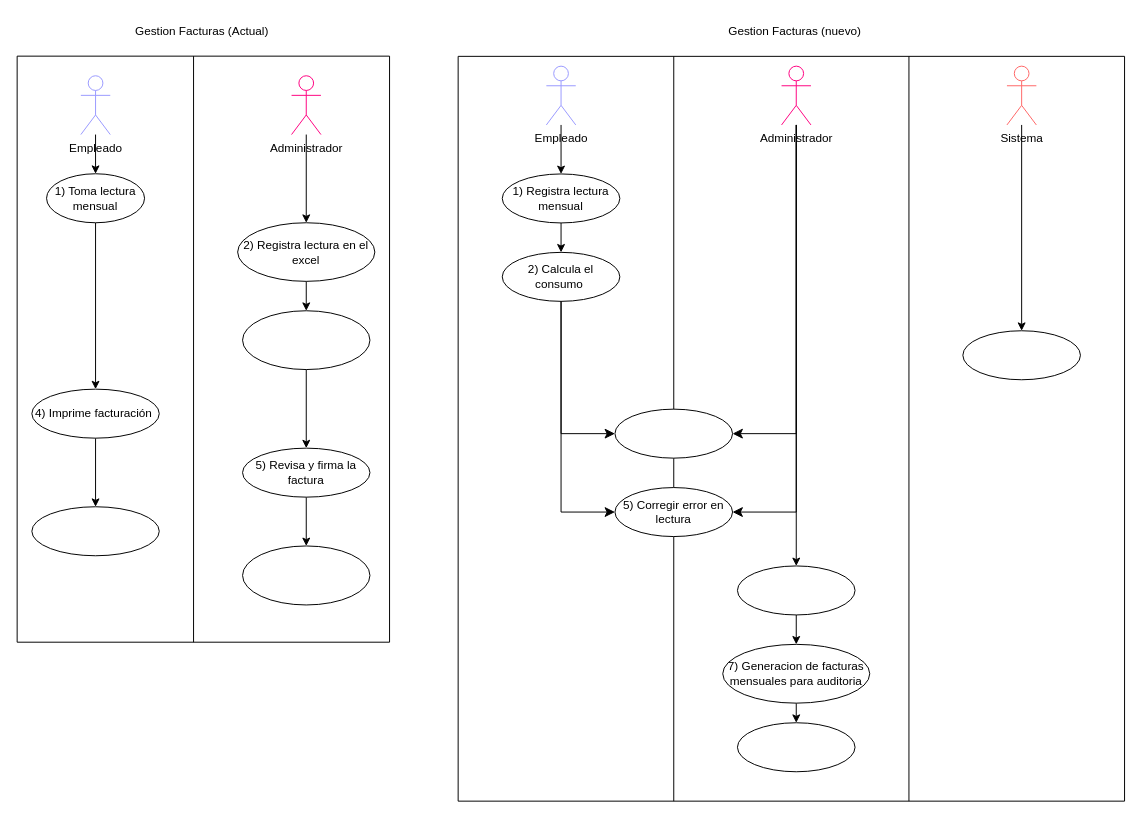
This 1143x819 diagram has some shape labels left out. The box of each missing label's shape, as (x1, y1, x2, y2) in pixels:
3) Calcula el consumo mensual: (242, 310, 370, 370)
3) Generar factura automatica: (962, 330, 1080, 380)
4) Consulta historial de lecturas: (614, 408, 733, 458)
6) Configurar periodo de facturacion: (736, 565, 855, 615)
7) Archiva copias de facturas: (31, 506, 159, 556)
7) Concilia el pago de factura: (242, 545, 370, 605)
8) Consulta de facturas: (736, 722, 855, 772)
